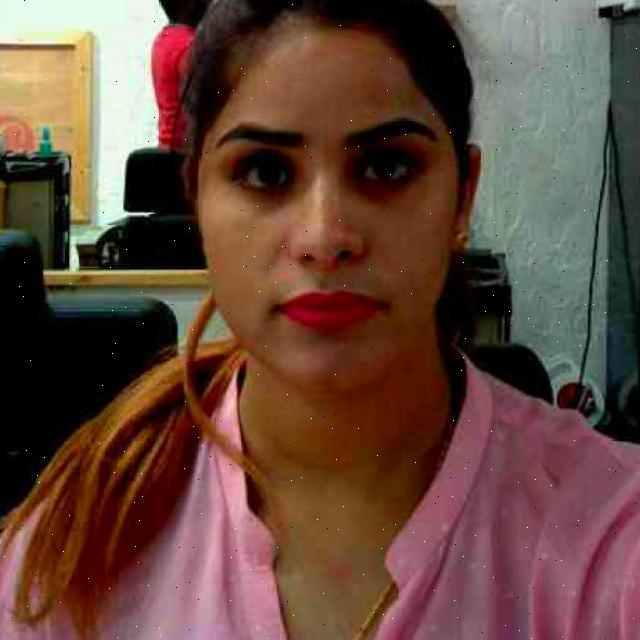puffy_eyes: (238, 184, 301, 208), (352, 181, 411, 204)
